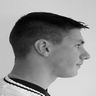ear: (32, 34, 57, 62)
